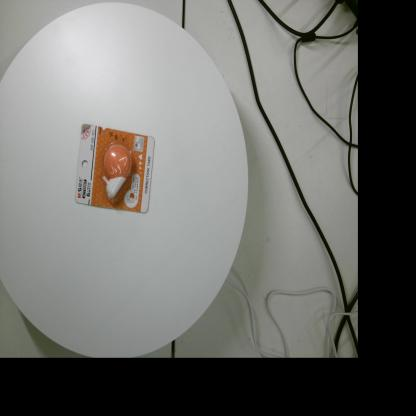Stationery: (75, 124, 155, 214)
